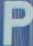Parking: (1, 0, 31, 45)
